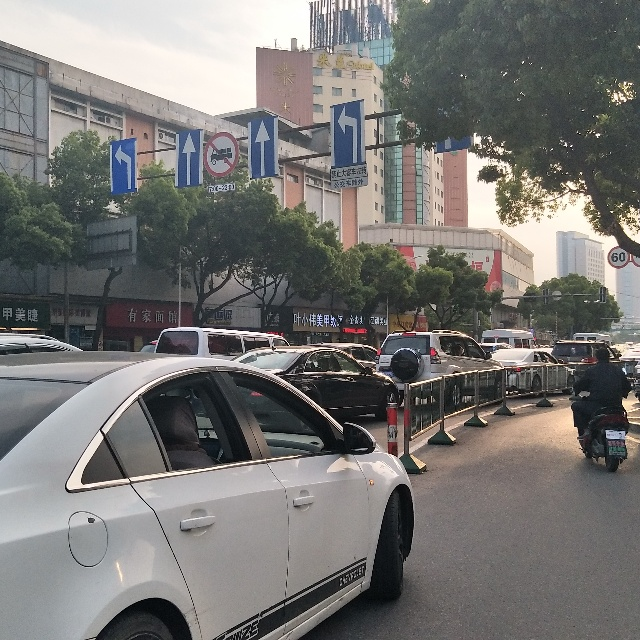left: (333, 105, 365, 166), (108, 141, 137, 191)
straight: (249, 121, 278, 178), (177, 130, 201, 186)
